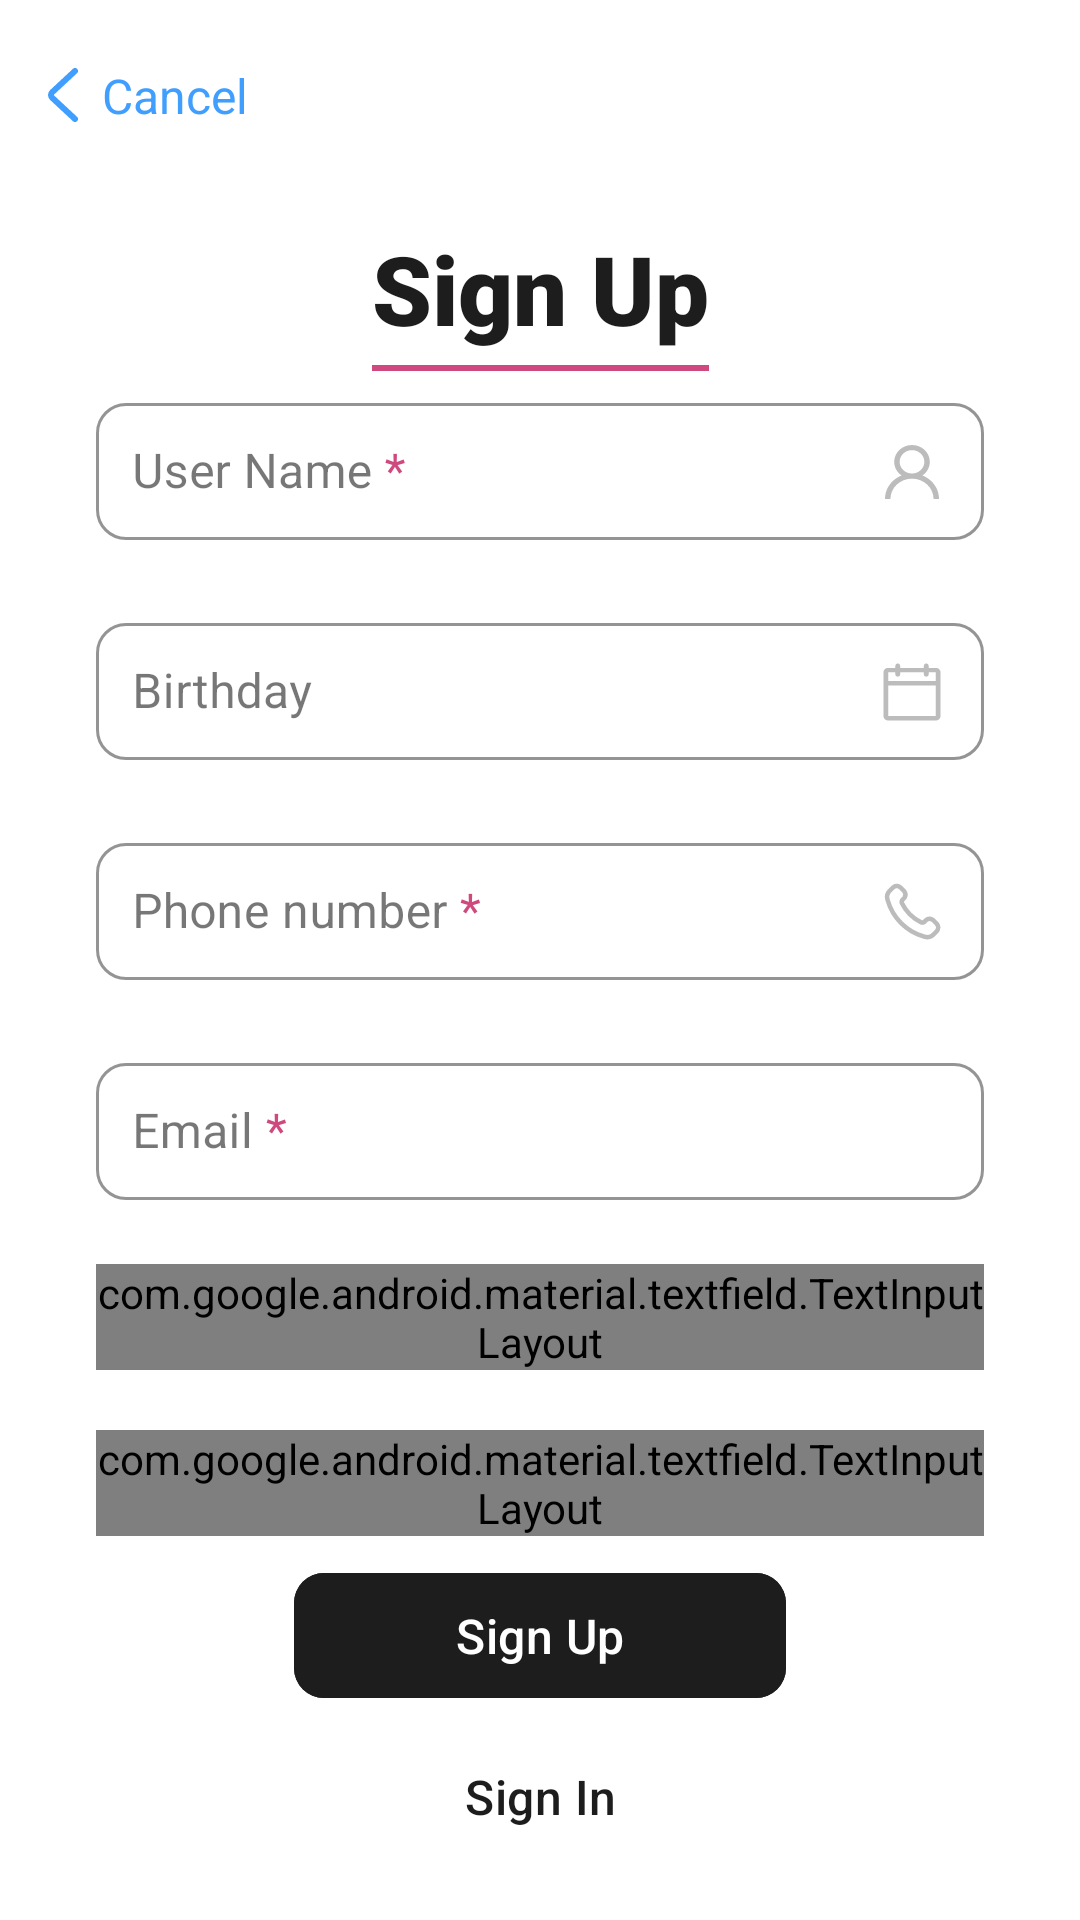

Where icons sit on this 1080 x 1920 app screen, as (x1, y1, x2, y2):
left arrow: (48, 68, 78, 122)
